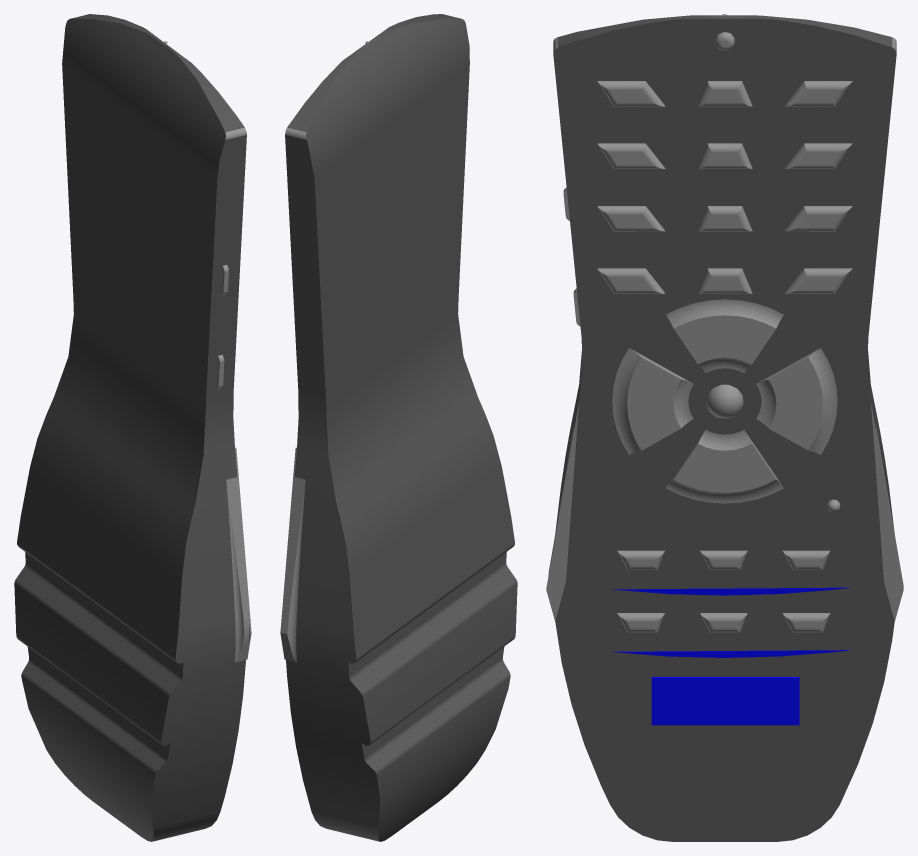
File: remote_control.dae
3 views of the same model, side by side, from view 1: azimuth 30°, elevation 25°; view 2: azimuth 150°, elevation 25°; view 3: azimuth 270°, elevation 25° (orthographic). The views are drawn at different scales.
Visible parts, largest first — view 1: mesh_2_Boss-Extrude1, mesh_3_Boss-Extrude14, mesh_1_remote_; view 2: mesh_2_Boss-Extrude1, mesh_3_Boss-Extrude14; view 3: mesh_2_Boss-Extrude1, mesh_1_remote_, mesh_4_Fillet23_face, mesh_3_Boss-Extrude14.
Boxes of the visible parts, x1=… form: mesh_2_Boss-Extrude1: x1=14, y1=14, x2=246, y2=841; mesh_3_Boss-Extrude14: x1=226, y1=447, x2=251, y2=662; mesh_1_remote_: x1=164, y1=41, x2=250, y2=641; mesh_2_Boss-Extrude1: x1=285, y1=14, x2=517, y2=841; mesh_3_Boss-Extrude14: x1=280, y1=447, x2=305, y2=662; mesh_2_Boss-Extrude1: x1=553, y1=15, x2=896, y2=841; mesh_1_remote_: x1=553, y1=14, x2=896, y2=632; mesh_4_Fillet23_face: x1=613, y1=587, x2=849, y2=725; mesh_3_Boss-Extrude14: x1=546, y1=403, x2=903, y2=621.
Bounding box in the file's own units: 0.0164 × 0.0519 × 0.1324.
